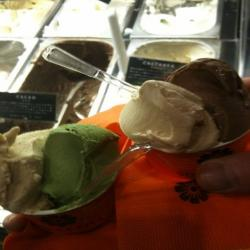icecream: (3, 123, 132, 234), (119, 57, 247, 162), (10, 37, 113, 129), (135, 1, 219, 36), (48, 1, 125, 32)
